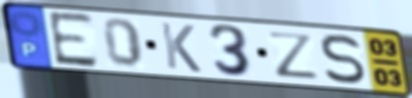0: (101, 16, 146, 71)
3: (207, 23, 255, 79)
E: (45, 10, 101, 70)
K: (157, 20, 204, 75)
S: (319, 32, 368, 86)
Z: (265, 30, 321, 81)
